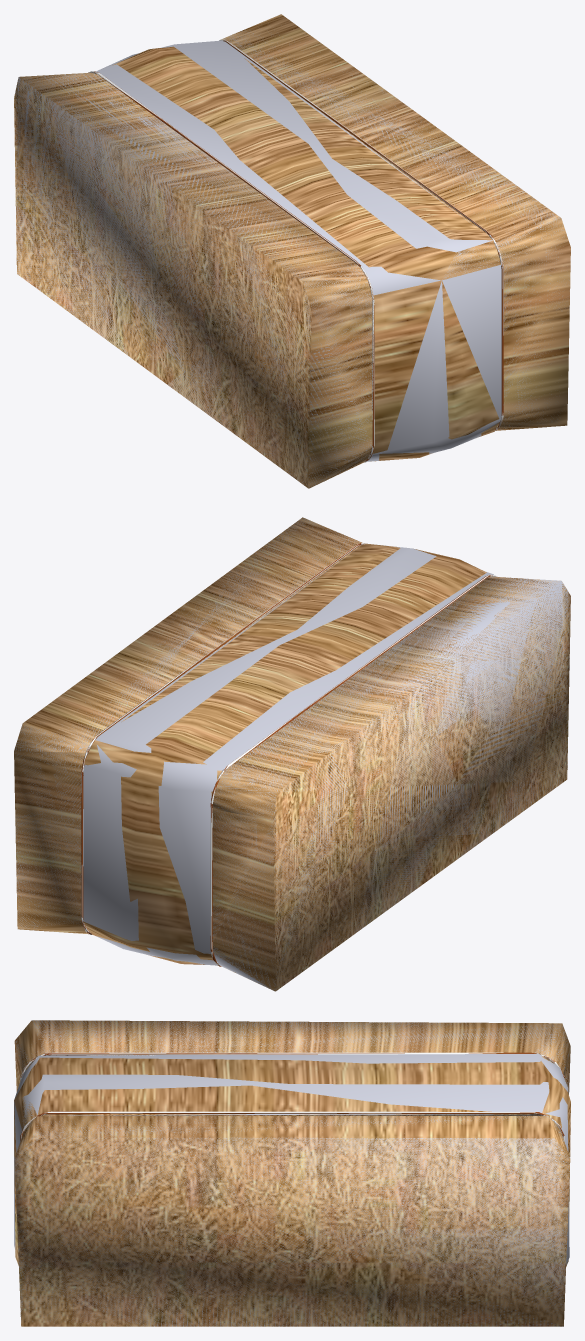
File: modelbale.fbx
3 renders of one model, top to bottom at view 1: azimuth 30°, elevation 25°; view 2: azimuth 150°, elevation 25°; view 3: azimuth 270°, elevation 25°, orthographic. The views are drawn at different scales.
Parts seen in each view (by area): view 1: group_0.001, group_0, group_0.002; view 2: group_0.001, group_0, group_0.002; view 3: group_0.001, group_0.002, group_0.
Part boxes in pixels (bbox=[...]): group_0.001: bbox=[14, 14, 570, 488]; group_0: bbox=[88, 71, 374, 462]; group_0.002: bbox=[219, 39, 503, 430]; group_0.001: bbox=[14, 517, 570, 991]; group_0: bbox=[210, 574, 497, 966]; group_0.002: bbox=[81, 543, 364, 934]; group_0.001: bbox=[14, 1020, 570, 1326]; group_0.002: bbox=[20, 1111, 564, 1141]; group_0: bbox=[20, 1052, 564, 1080].
Bounding box in the file's own units: 45.75 × 35.66 × 91.51.
